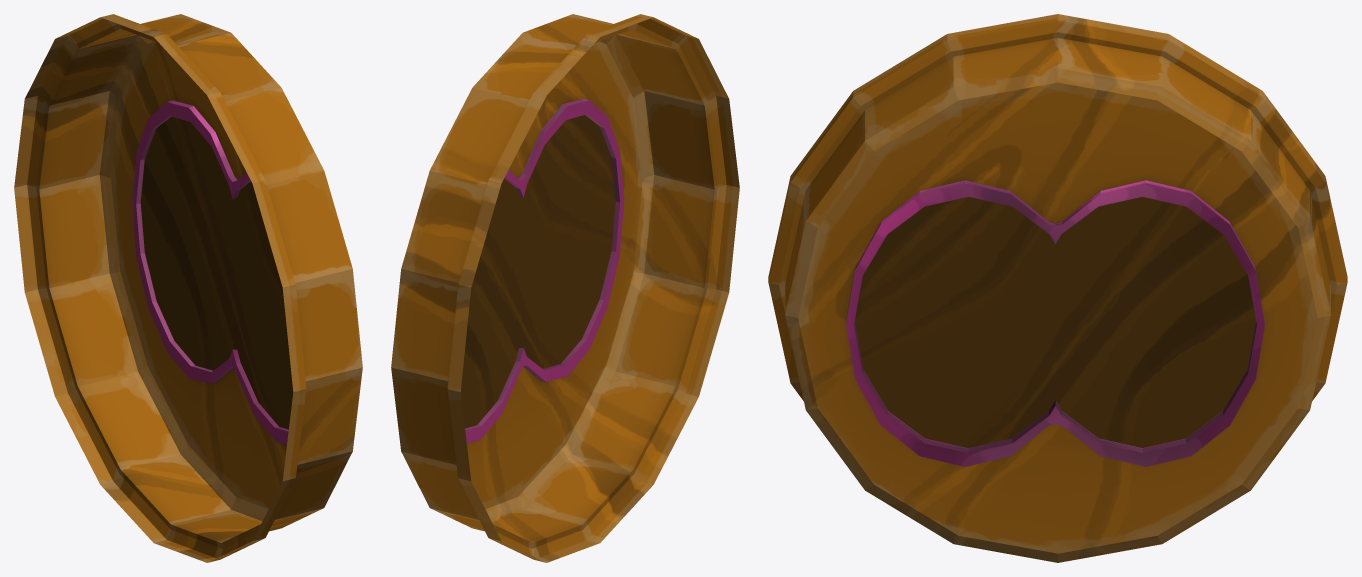
Rendered from ButtonAssBase.fbx.
3 renders of one model, left to right at view 1: azimuth 30°, elevation 25°; view 2: azimuth 150°, elevation 25°; view 3: azimuth 270°, elevation 25°, orthographic. The views are drawn at different scales.
Visible parts, largest first — view 1: butt base; view 2: butt base; view 3: butt base.
Boxes of the visible parts, x1=… form: butt base: x1=14, y1=14, x2=362, y2=562; butt base: x1=391, y1=14, x2=739, y2=562; butt base: x1=768, y1=14, x2=1347, y2=562.
Bounding box in the file's own units: 10.85 × 57.86 × 57.86.
